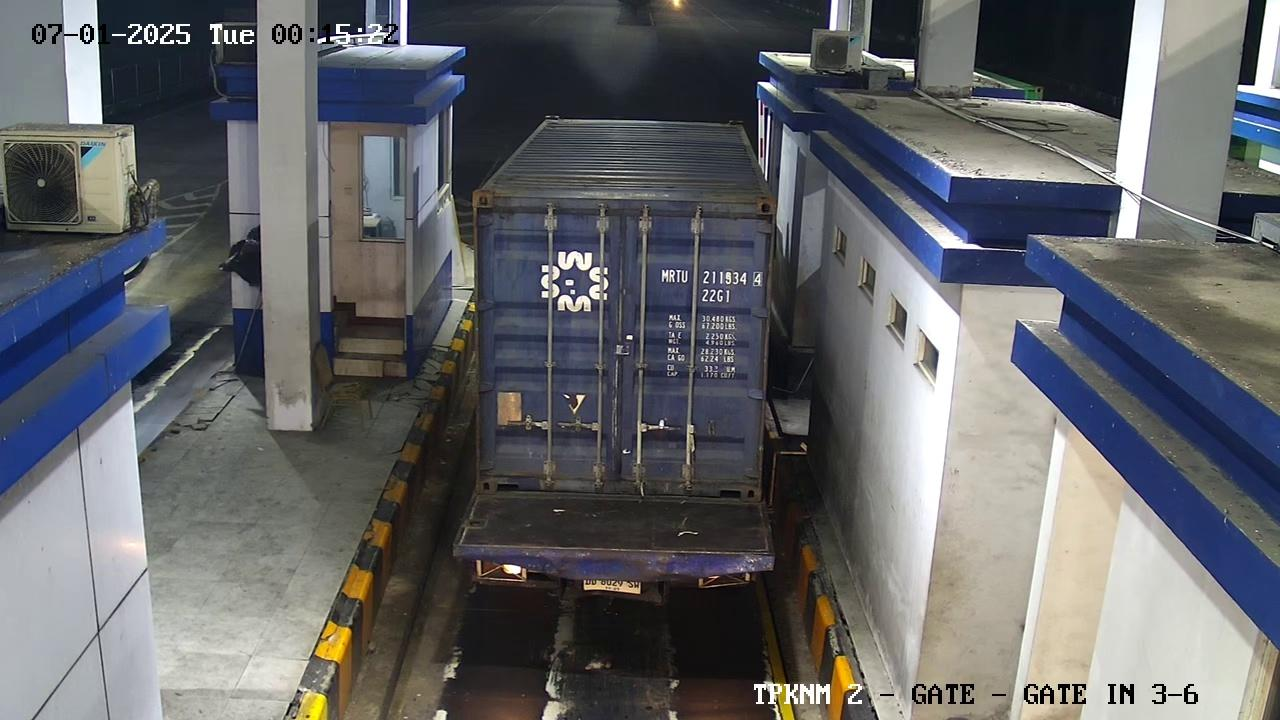Container_ID: (642, 255, 775, 312)
plate_number: (575, 564, 654, 602)
